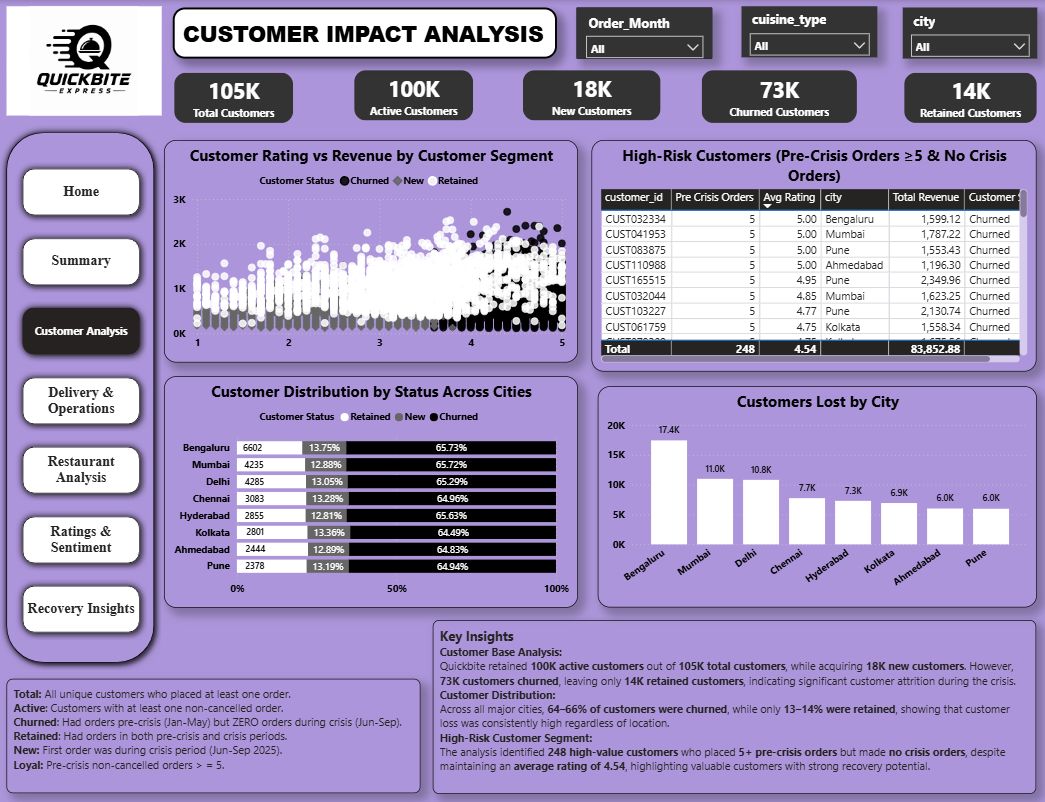

This screenshot's page, from the dashboard's own definition file:
{"tool":"powerbi","page":{"name":"Customer Analysis","canvas":[1300,1000],"ordinal":2},"visuals":[{"type":"cardVisual","fields":{"Data":["orders_data.Total Customers"]},"box":[211.8,85,157.7,72.7],"z":0},{"type":"cardVisual","fields":{"Data":["orders_data.Active Customers"]},"box":[434,82.1,157.5,72.1],"z":1000},{"type":"cardVisual","fields":{"Data":["customer_data.New Customers"]},"box":[643.4,82.1,181,72.1],"z":2000},{"type":"cardVisual","fields":{"Data":["customer_data.Retained Customers"]},"box":[1114.3,85.5,174.3,72.1],"z":3000},{"type":"textbox","box":[215,10,475,63.3],"z":4000},{"type":"shape","box":[0,154.6,201,674.1],"z":5000},{"type":"pageNavigator","box":[20,200,163.3,596.7],"z":6000},{"type":"cardVisual","fields":{"Data":["customer_data.Churned Customers"]},"box":[864.6,82.1,202.7,75.4],"z":7000},{"type":"slicer","fields":{"Values":["orders_data.Order_Month"]},"box":[715,10,168.3,63.3],"z":8000},{"type":"slicer","fields":{"Values":["restaurant_data.city"]},"box":[1118.3,10,166.7,63.3],"z":9000},{"type":"slicer","fields":{"Values":["restaurant_data.cuisine_type"]},"box":[918.3,8.3,168.3,63.3],"z":10000},{"type":"image","box":[10,8.3,191.7,135],"z":11000},{"type":"textbox","box":[10,840,511.7,141.7],"z":12000},{"type":"tableEx","title":"High-Risk Customers (Pre-Crisis Orders ≥5 & No Crisis Orders)","fields":{"Values":["customer_data.customer_id","orders_data.Pre Crisis Orders","ratings_data.Avg Rating","customer_data.city","orders_data.Total Revenue","customer_data.Customer Status"]},"box":[733.3,173.3,550,286.7],"z":13000},{"type":"scatterChart","title":"Customer Rating vs Revenue by Customer Segment","fields":{"X":["ratings_data.Avg Rating"],"Series":["customer_data.Customer Status"],"Category":["customer_data.customer_id"],"Y":["orders_data.Total Revenue"]},"box":[203.3,173.3,511.7,275],"z":14000},{"type":"hundredPercentStackedBarChart","title":"Customer Distribution by Status Across Cities","fields":{"Category":["delivery_partners_data.city"],"Y":["orders_data.Total Customers"],"Series":["customer_data.Customer Status"]},"box":[203.3,465,511.7,286.7],"z":15000},{"type":"clusteredColumnChart","title":"Customers Lost by City","fields":{"Category":["delivery_partners_data.city"],"Y":["orders_data.Customers_Lost"]},"box":[740,478.3,543.3,273.3],"z":16000},{"type":"textbox","box":[536.5,766.9,746.8,214.9],"z":17000}]}

Visuals, with their boxes in screenshot pixels (x1, y1, x2, y2), scaled from the page's 1300x1000 canvas onto the 1045x802 screenshot:
cardVisual - orders_data.Total Customers: bbox=[170, 68, 297, 126]
cardVisual - orders_data.Active Customers: bbox=[349, 66, 475, 124]
cardVisual - customer_data.New Customers: bbox=[517, 66, 663, 124]
cardVisual - customer_data.Retained Customers: bbox=[896, 69, 1036, 126]
textbox: bbox=[173, 8, 555, 59]
shape: bbox=[0, 124, 162, 665]
pageNavigator: bbox=[16, 160, 147, 639]
cardVisual - customer_data.Churned Customers: bbox=[695, 66, 858, 126]
slicer - orders_data.Order_Month: bbox=[575, 8, 710, 59]
slicer - restaurant_data.city: bbox=[899, 8, 1033, 59]
slicer - restaurant_data.cuisine_type: bbox=[738, 7, 873, 57]
image: bbox=[8, 7, 162, 115]
textbox: bbox=[8, 674, 419, 787]
"High-Risk Customers (Pre-Crisis Orders ≥5 & No Crisis Orders)" tableEx: bbox=[589, 139, 1032, 369]
"Customer Rating vs Revenue by Customer Segment" scatterChart: bbox=[163, 139, 575, 360]
"Customer Distribution by Status Across Cities" hundredPercentStackedBarChart: bbox=[163, 373, 575, 603]
"Customers Lost by City" clusteredColumnChart: bbox=[595, 384, 1032, 603]
textbox: bbox=[431, 615, 1032, 787]
